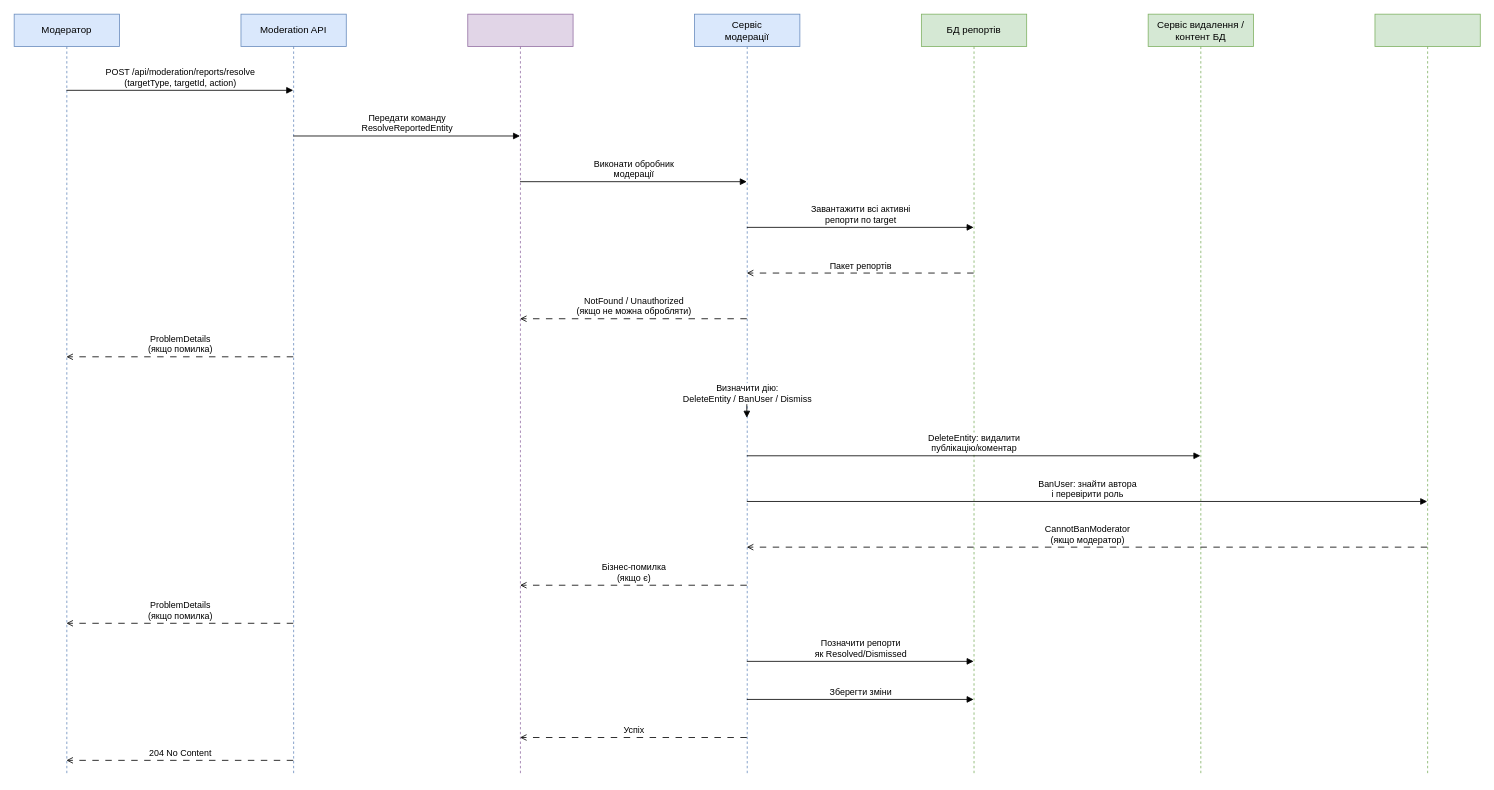
This 1494x790 diagram has some shape labels left out. The box of each missing label's shape, as (x1, y1, x2, y2) in pixels:
MediatR + валідація: (467, 13, 573, 776)
UserManager / БД користувачів: (1374, 13, 1480, 776)
